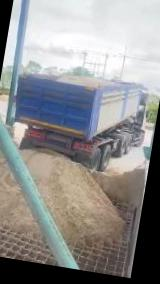sand: (23, 150, 123, 242), (0, 160, 38, 233), (91, 163, 144, 209), (57, 76, 119, 88), (0, 135, 2, 163)
